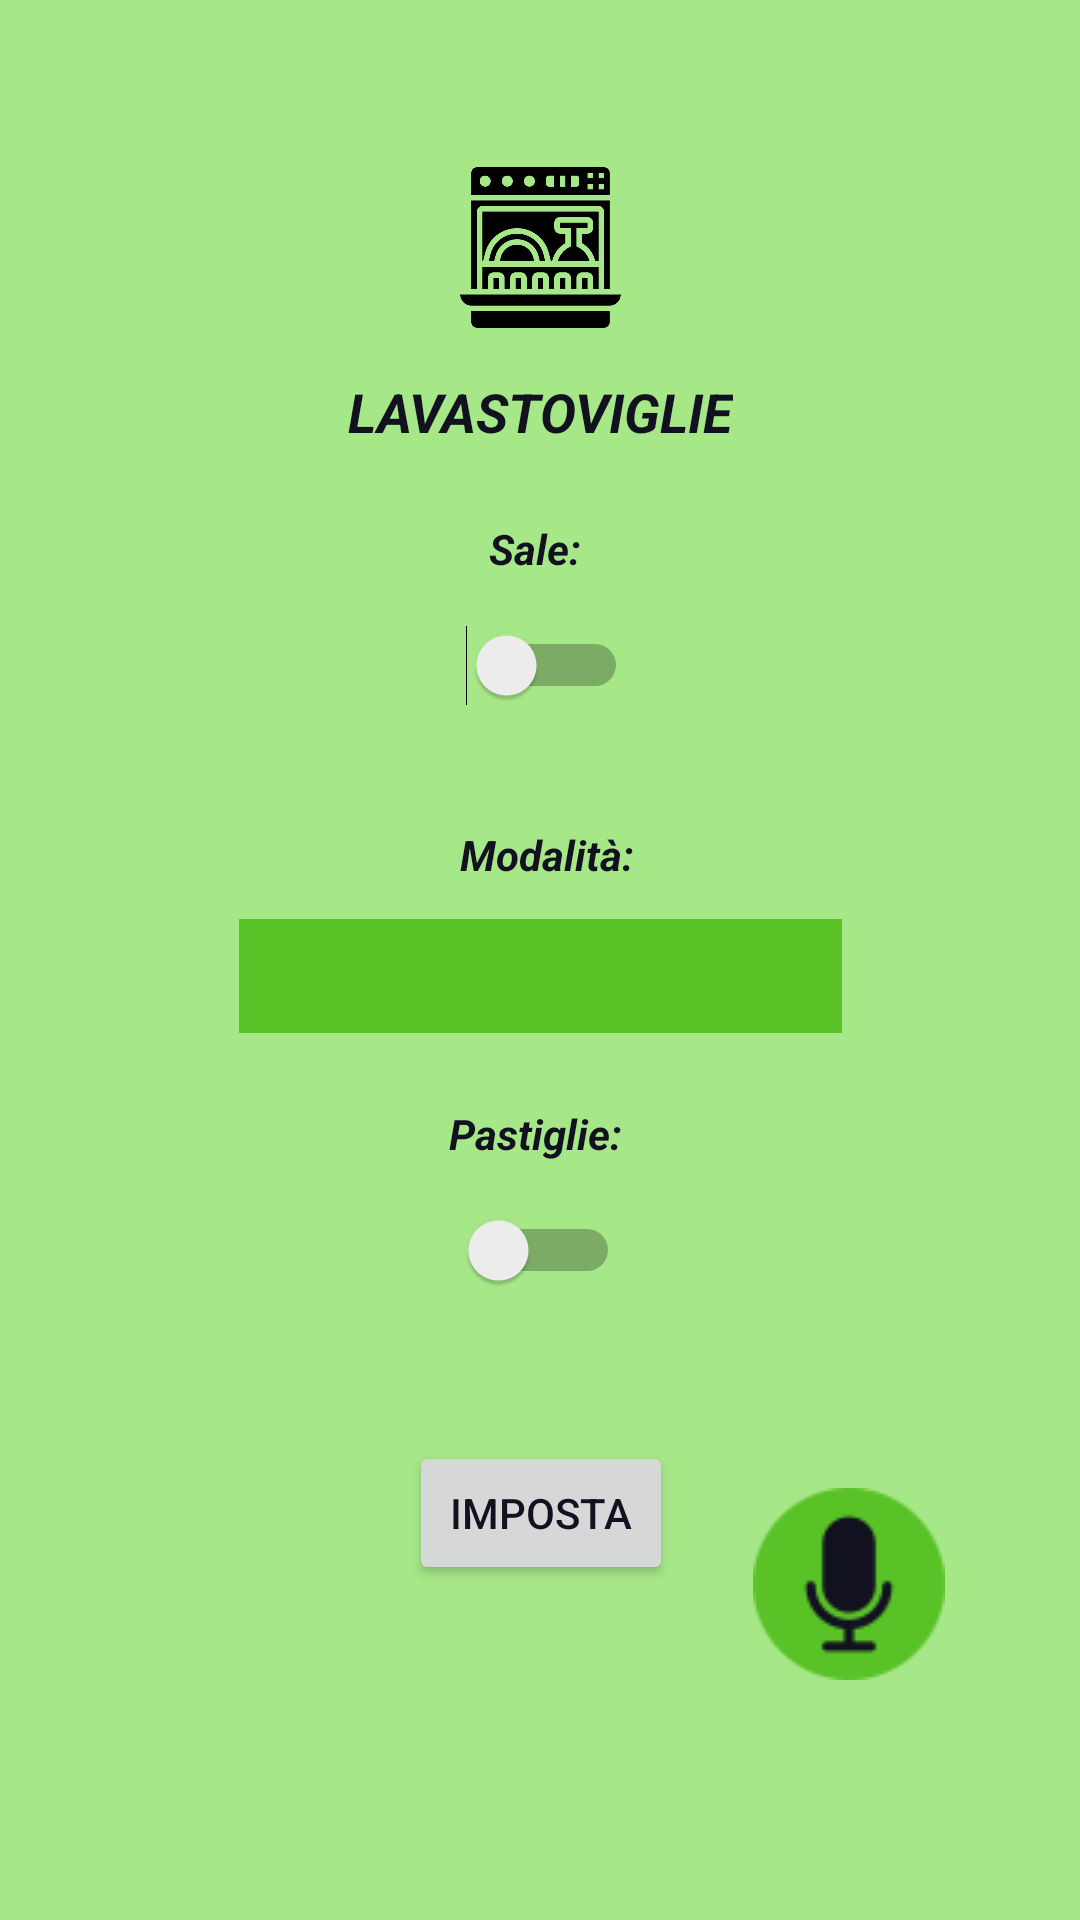

Named icons in this screenshot (1080x1920) and their centers, (x=x, y=y):
dishwasher: (x=540, y=247)
microphone: (x=849, y=1584)
